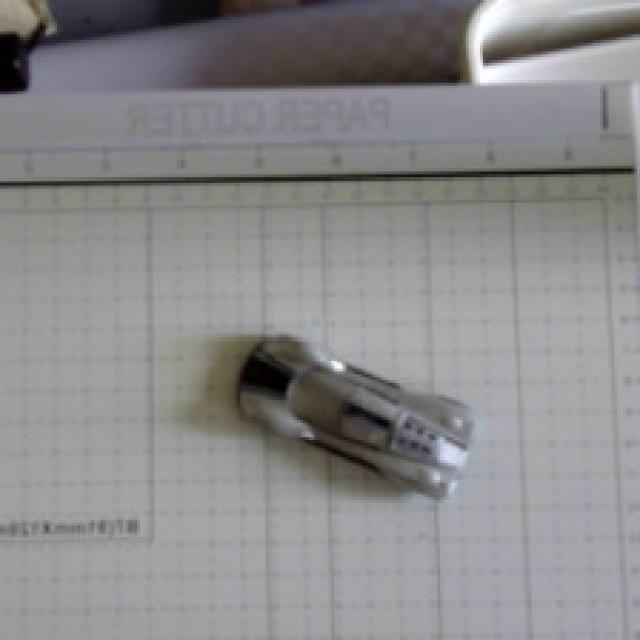Grey Car: (188, 295, 518, 548)
